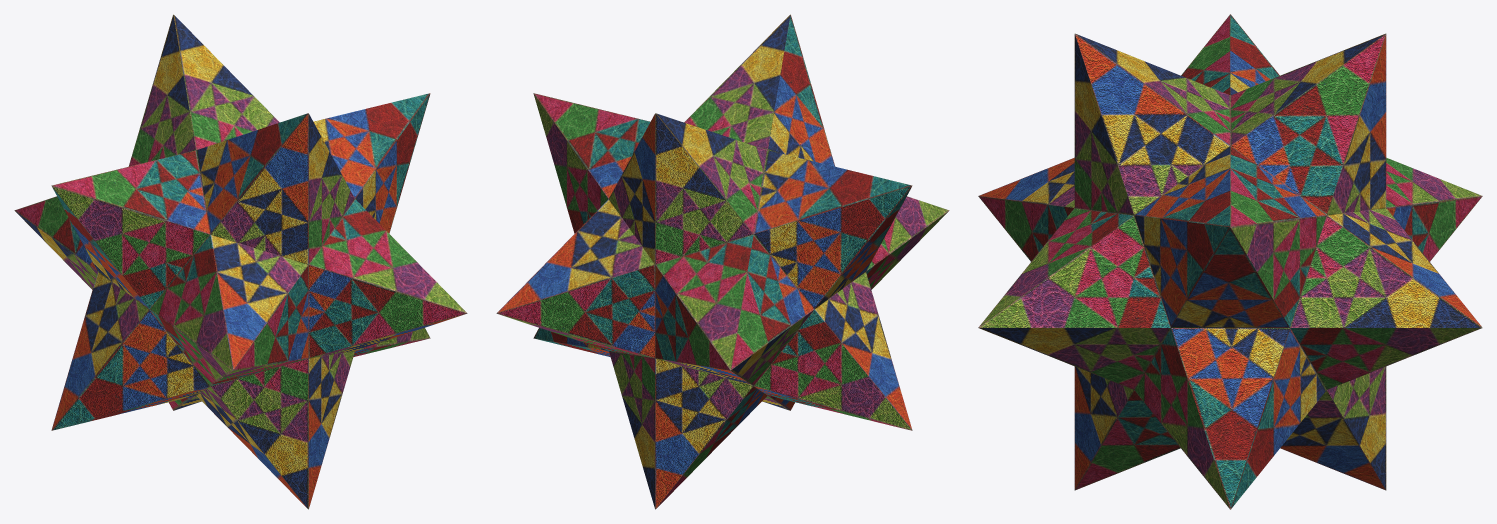
Rendered from SmallStellatedDodecahedron6.obj.
3 views of the same model, side by side, from view 1: azimuth 30°, elevation 25°; view 2: azimuth 150°, elevation 25°; view 3: azimuth 270°, elevation 25° (orthographic). The views are drawn at different scales.
Size of the model in its own units: 1 by 1 by 1.
1 material, 1 textured.
